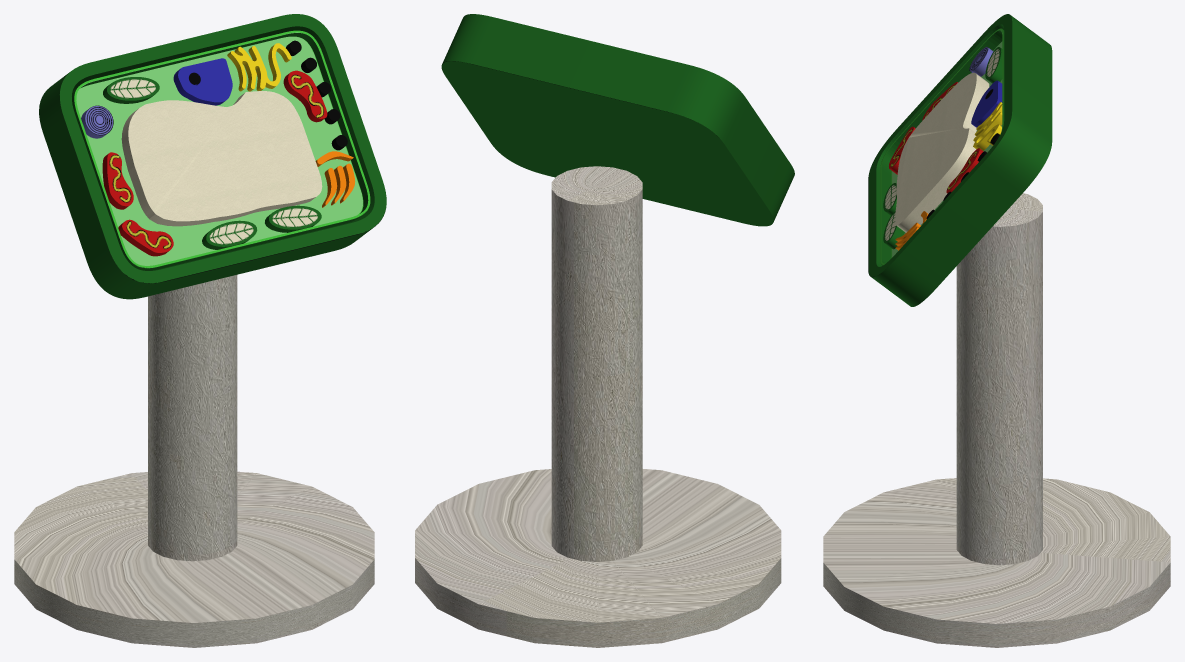
File: Plant Cell Model.FBX
3 views of the same model, side by side, from view 1: azimuth 30°, elevation 25°; view 2: azimuth 150°, elevation 25°; view 3: azimuth 270°, elevation 25° (orthographic). The views are drawn at different scales.
Visible parts, largest first — view 1: Cylinder007, Box001, Cylinder006, Line001, Line002, Line010, Line005, Ellipse003, Line004, Line003, Ellipse002, Ellipse001 (+1 smaller); view 2: Cylinder007, Box001, Cylinder006; view 3: Cylinder007, Cylinder006, Box001, Line001, Line010, Line002, Ellipse003.
Boxes of the visible parts, x1,y1,x2,y2 form: Cylinder007: (14,471,374,647); Box001: (39,14,386,299); Cylinder006: (148,275,237,561); Line001: (121,91,322,226); Line002: (173,58,232,105); Line010: (227,43,291,91); Line005: (283,70,327,122); Ellipse003: (103,77,159,103); Line004: (102,152,133,209); Line003: (118,219,173,256); Ellipse002: (265,205,321,232); Ellipse001: (202,220,257,249); Cylinder007: (415,469,781,647); Box001: (441,14,794,226); Cylinder006: (551,166,642,561); Cylinder007: (823,478,1170,647); Cylinder006: (956,193,1042,565); Box001: (868,14,1052,306); Line001: (895,72,989,232); Line010: (973,102,1002,150); Line002: (971,80,1002,127); Ellipse003: (985,47,1002,83).
Size of the model in its own units: 100 by 159 by 98.48.
10 materials, 7 textured.
